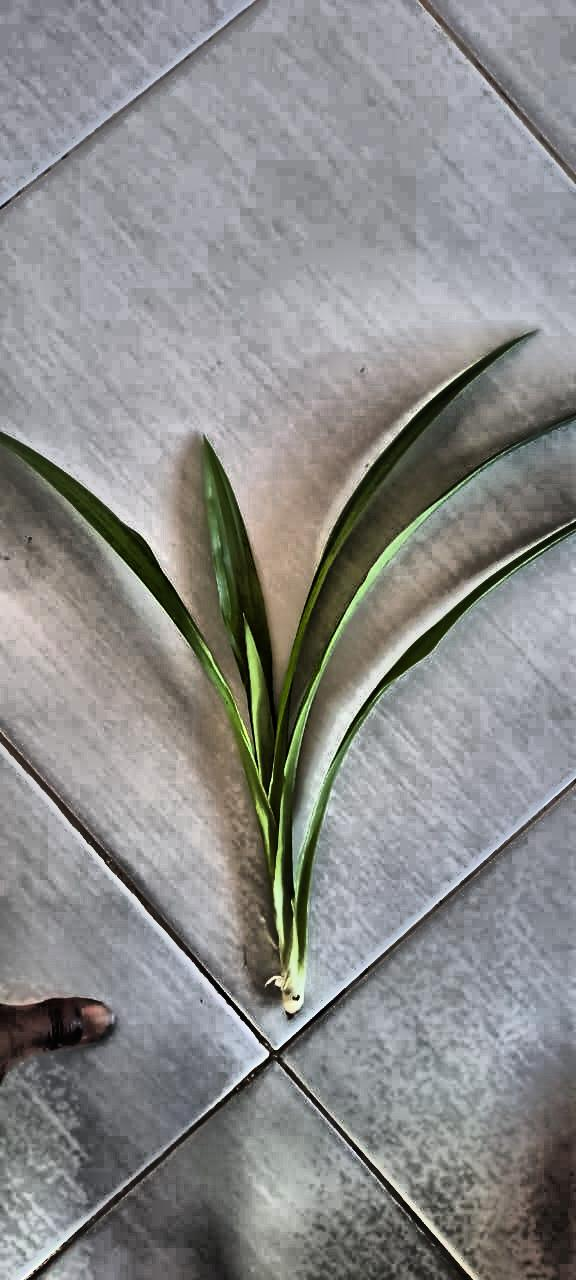daun pandan: (0, 335, 575, 1016)
